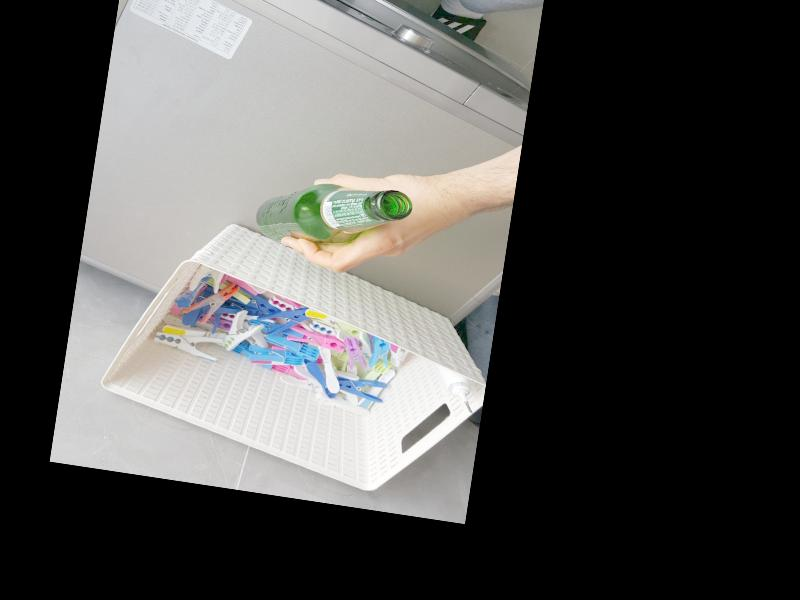Beer: (253, 170, 413, 263)
